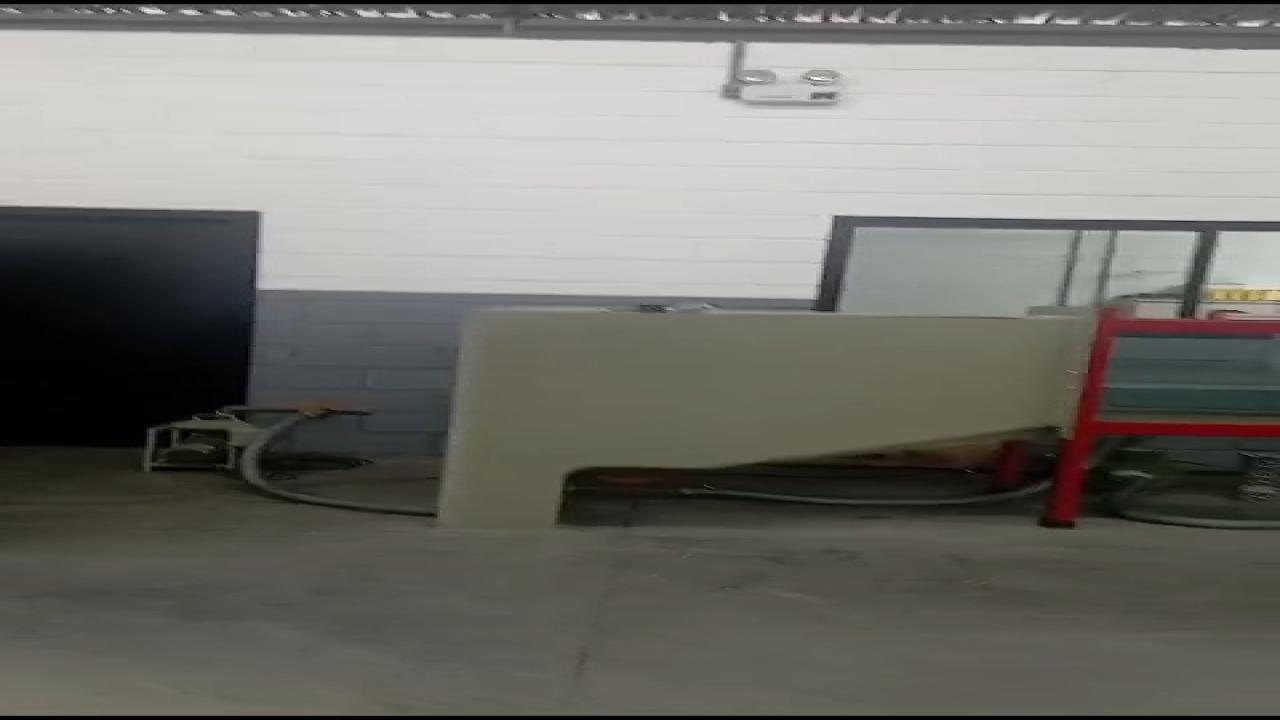Cube: (635, 304, 670, 313)
